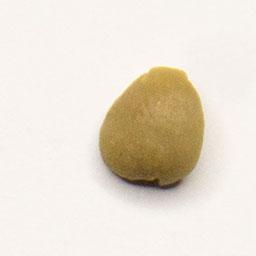premium: (96, 63, 208, 191)
